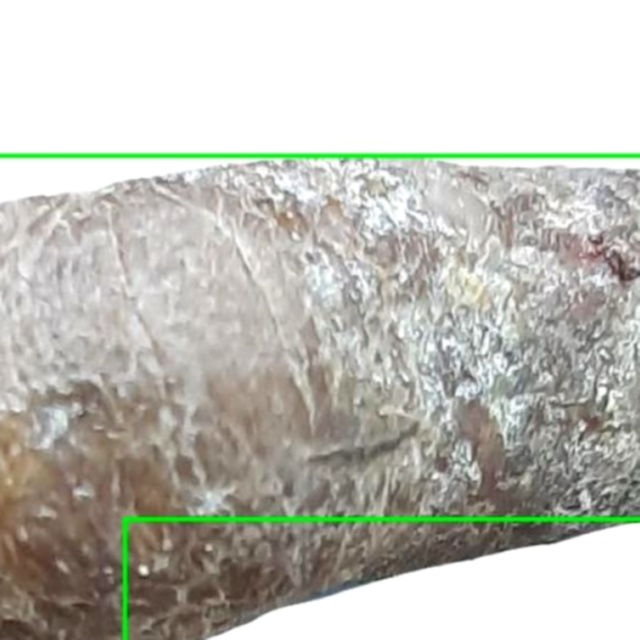Eczema: (0, 157, 639, 639), (125, 519, 639, 639)
